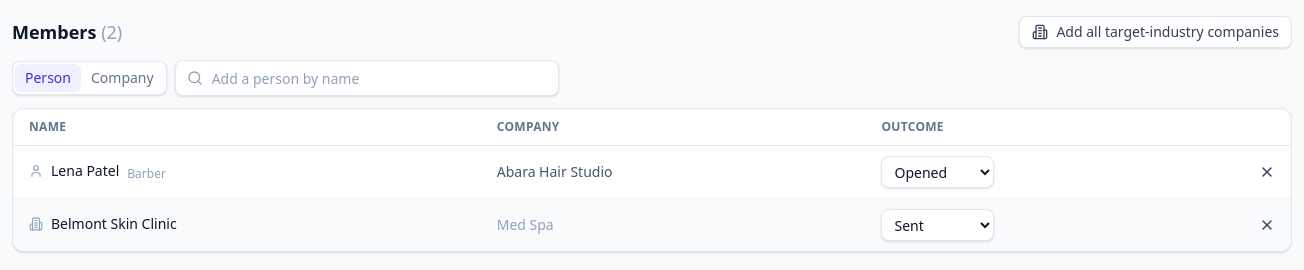
Scenario: CampaignMembersManager — editor › member picker › says so when nothing matches
Type "Zzz" into the field with placeholder "Add a person by name" at (367, 78), box [175,60,559,96]
Wait 250 ms
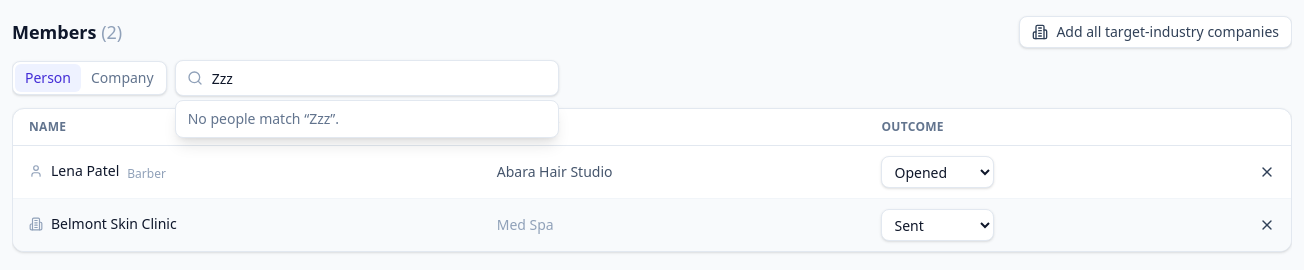
Expected: the message reads "No people match “Zzz”.", [188,109,339,128]
